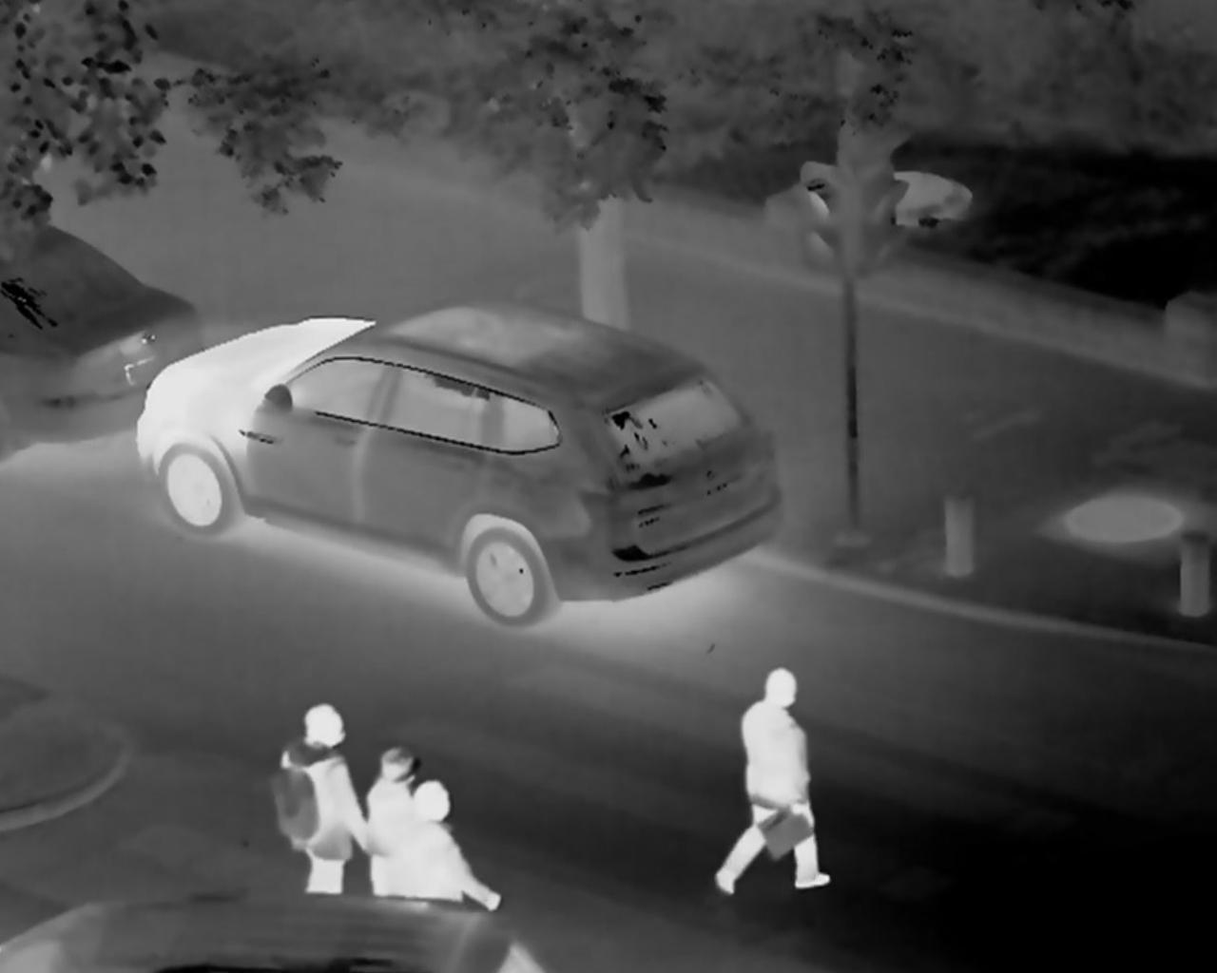person: (723, 646, 867, 899), (424, 780, 505, 930), (284, 707, 338, 914), (367, 728, 424, 891)
